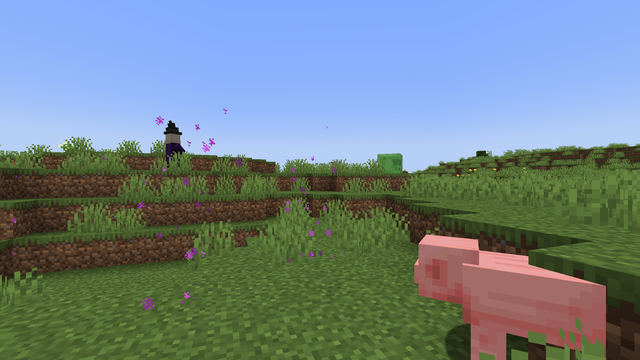cochons: (447, 245, 596, 359)
slimes: (374, 152, 405, 170)
sorcieres: (164, 131, 180, 162)
